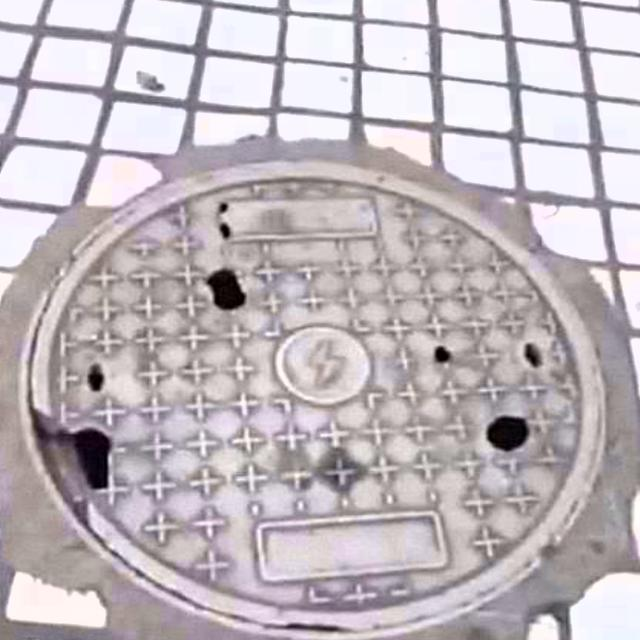broke: (26, 170, 608, 640)
